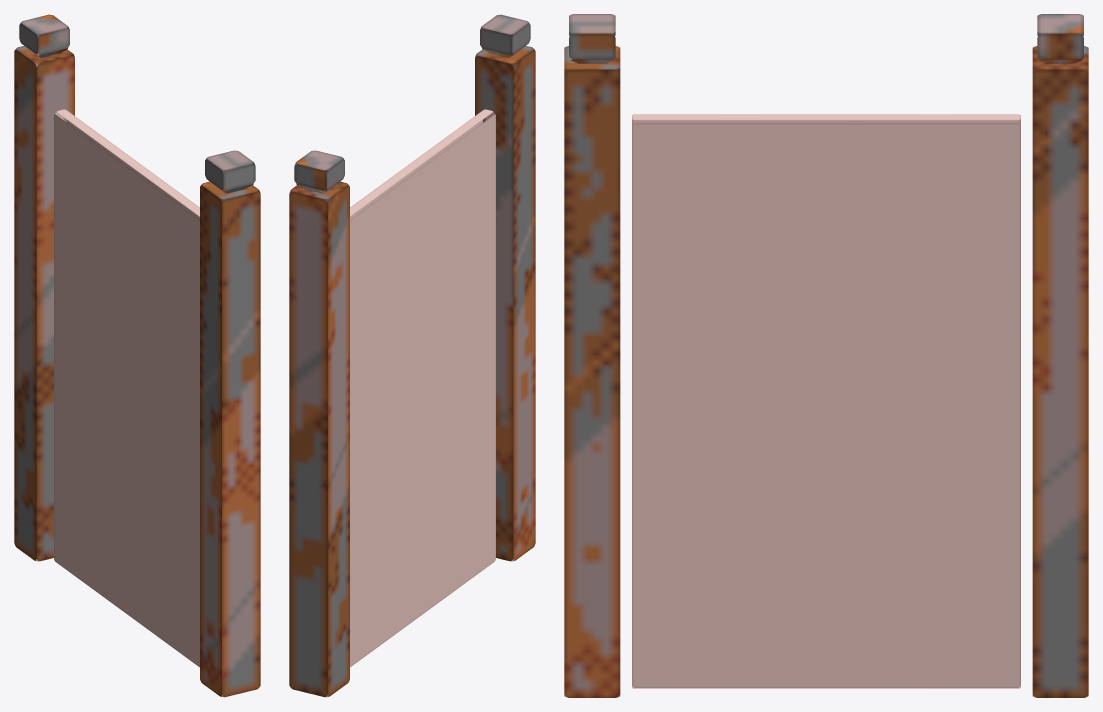
Rendered from ParedesDeVidro.fbx.
3 views of the same model, side by side, from view 1: azimuth 30°, elevation 25°; view 2: azimuth 150°, elevation 25°; view 3: azimuth 270°, elevation 25° (orthographic). The views are drawn at different scales.
Visible parts, largest first — view 1: mesh; view 2: mesh; view 3: mesh.
Boxes of the visible parts, box(x1,y1,x2,y2) form: mesh: box(14, 14, 260, 697); mesh: box(289, 14, 535, 697); mesh: box(564, 14, 1088, 697).
Size of the model in its own units: 37.5 by 488 by 350.
1 material, 1 textured.
